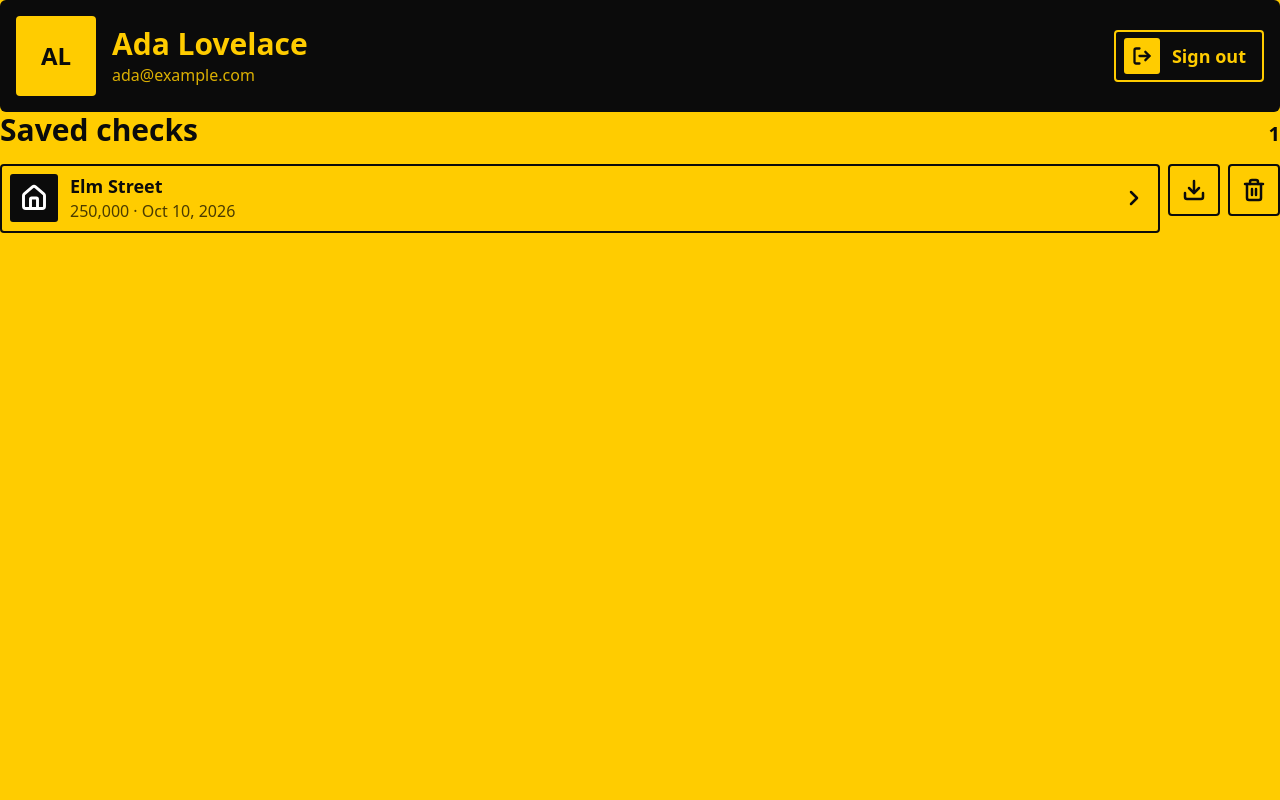
ProfileContainer › lists saved checks and deletes one after confirming
This screenshot has width=1280, height=800.
Expected: the heading "Ada Lovelace" is shown, [112, 25, 308, 63]
Click the button named "Delete Elm Street" at (1254, 190), box [1228, 164, 1279, 216]
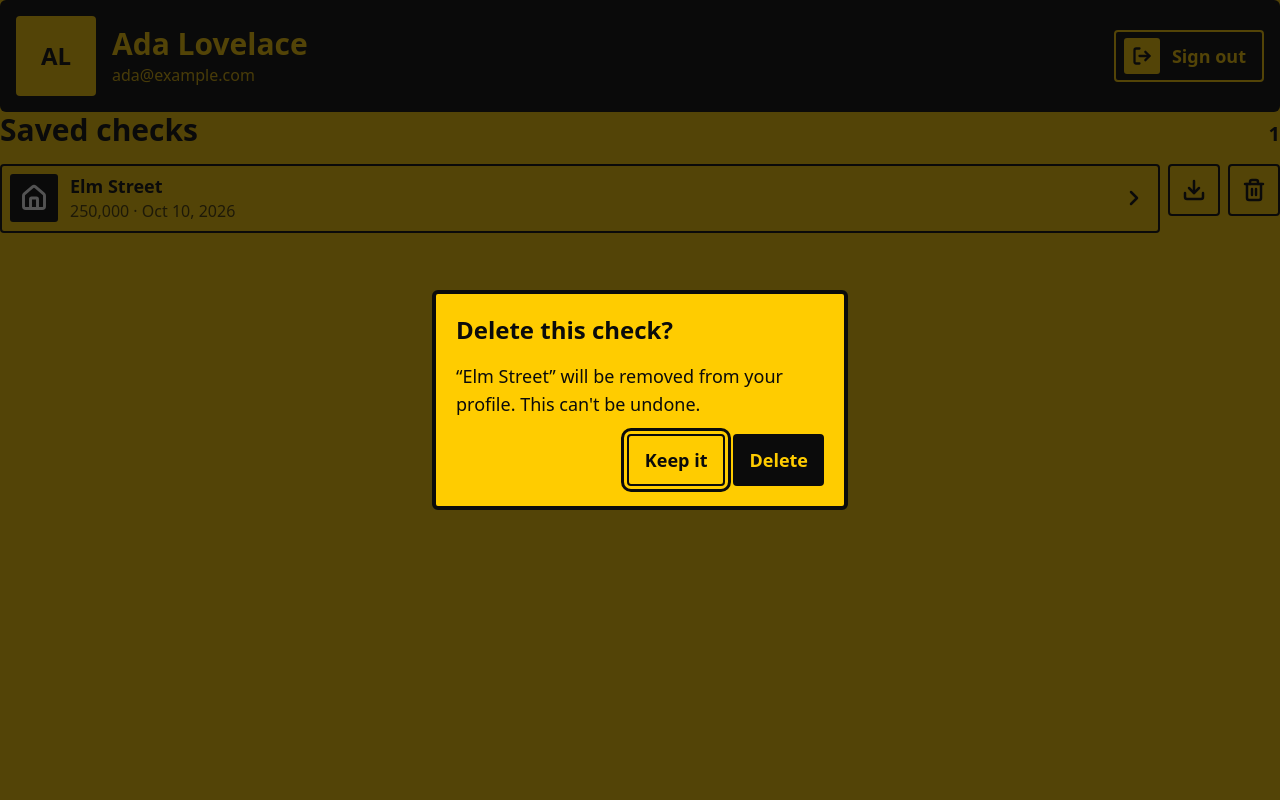
Click the button "Delete" at (779, 460), box [734, 434, 824, 486]
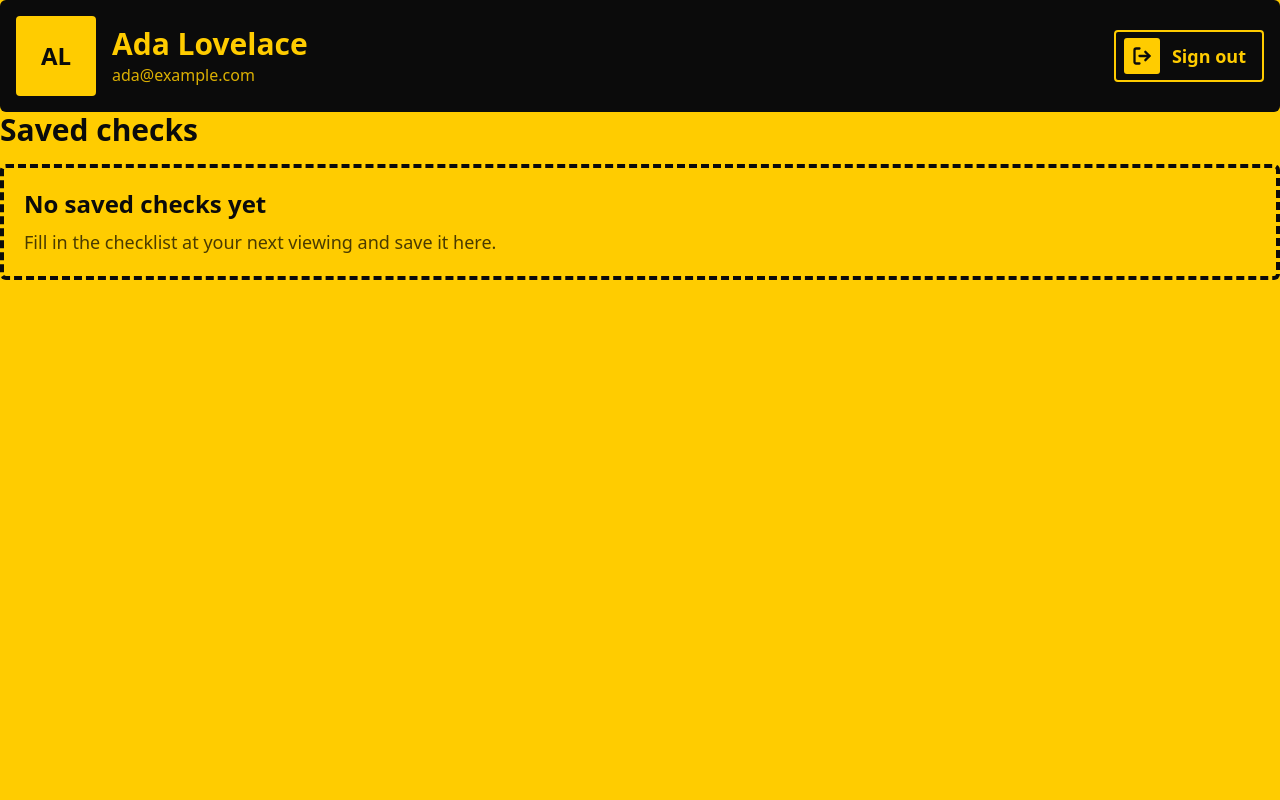
Now the text "No saved checks yet" is shown, box [24, 188, 266, 220]
